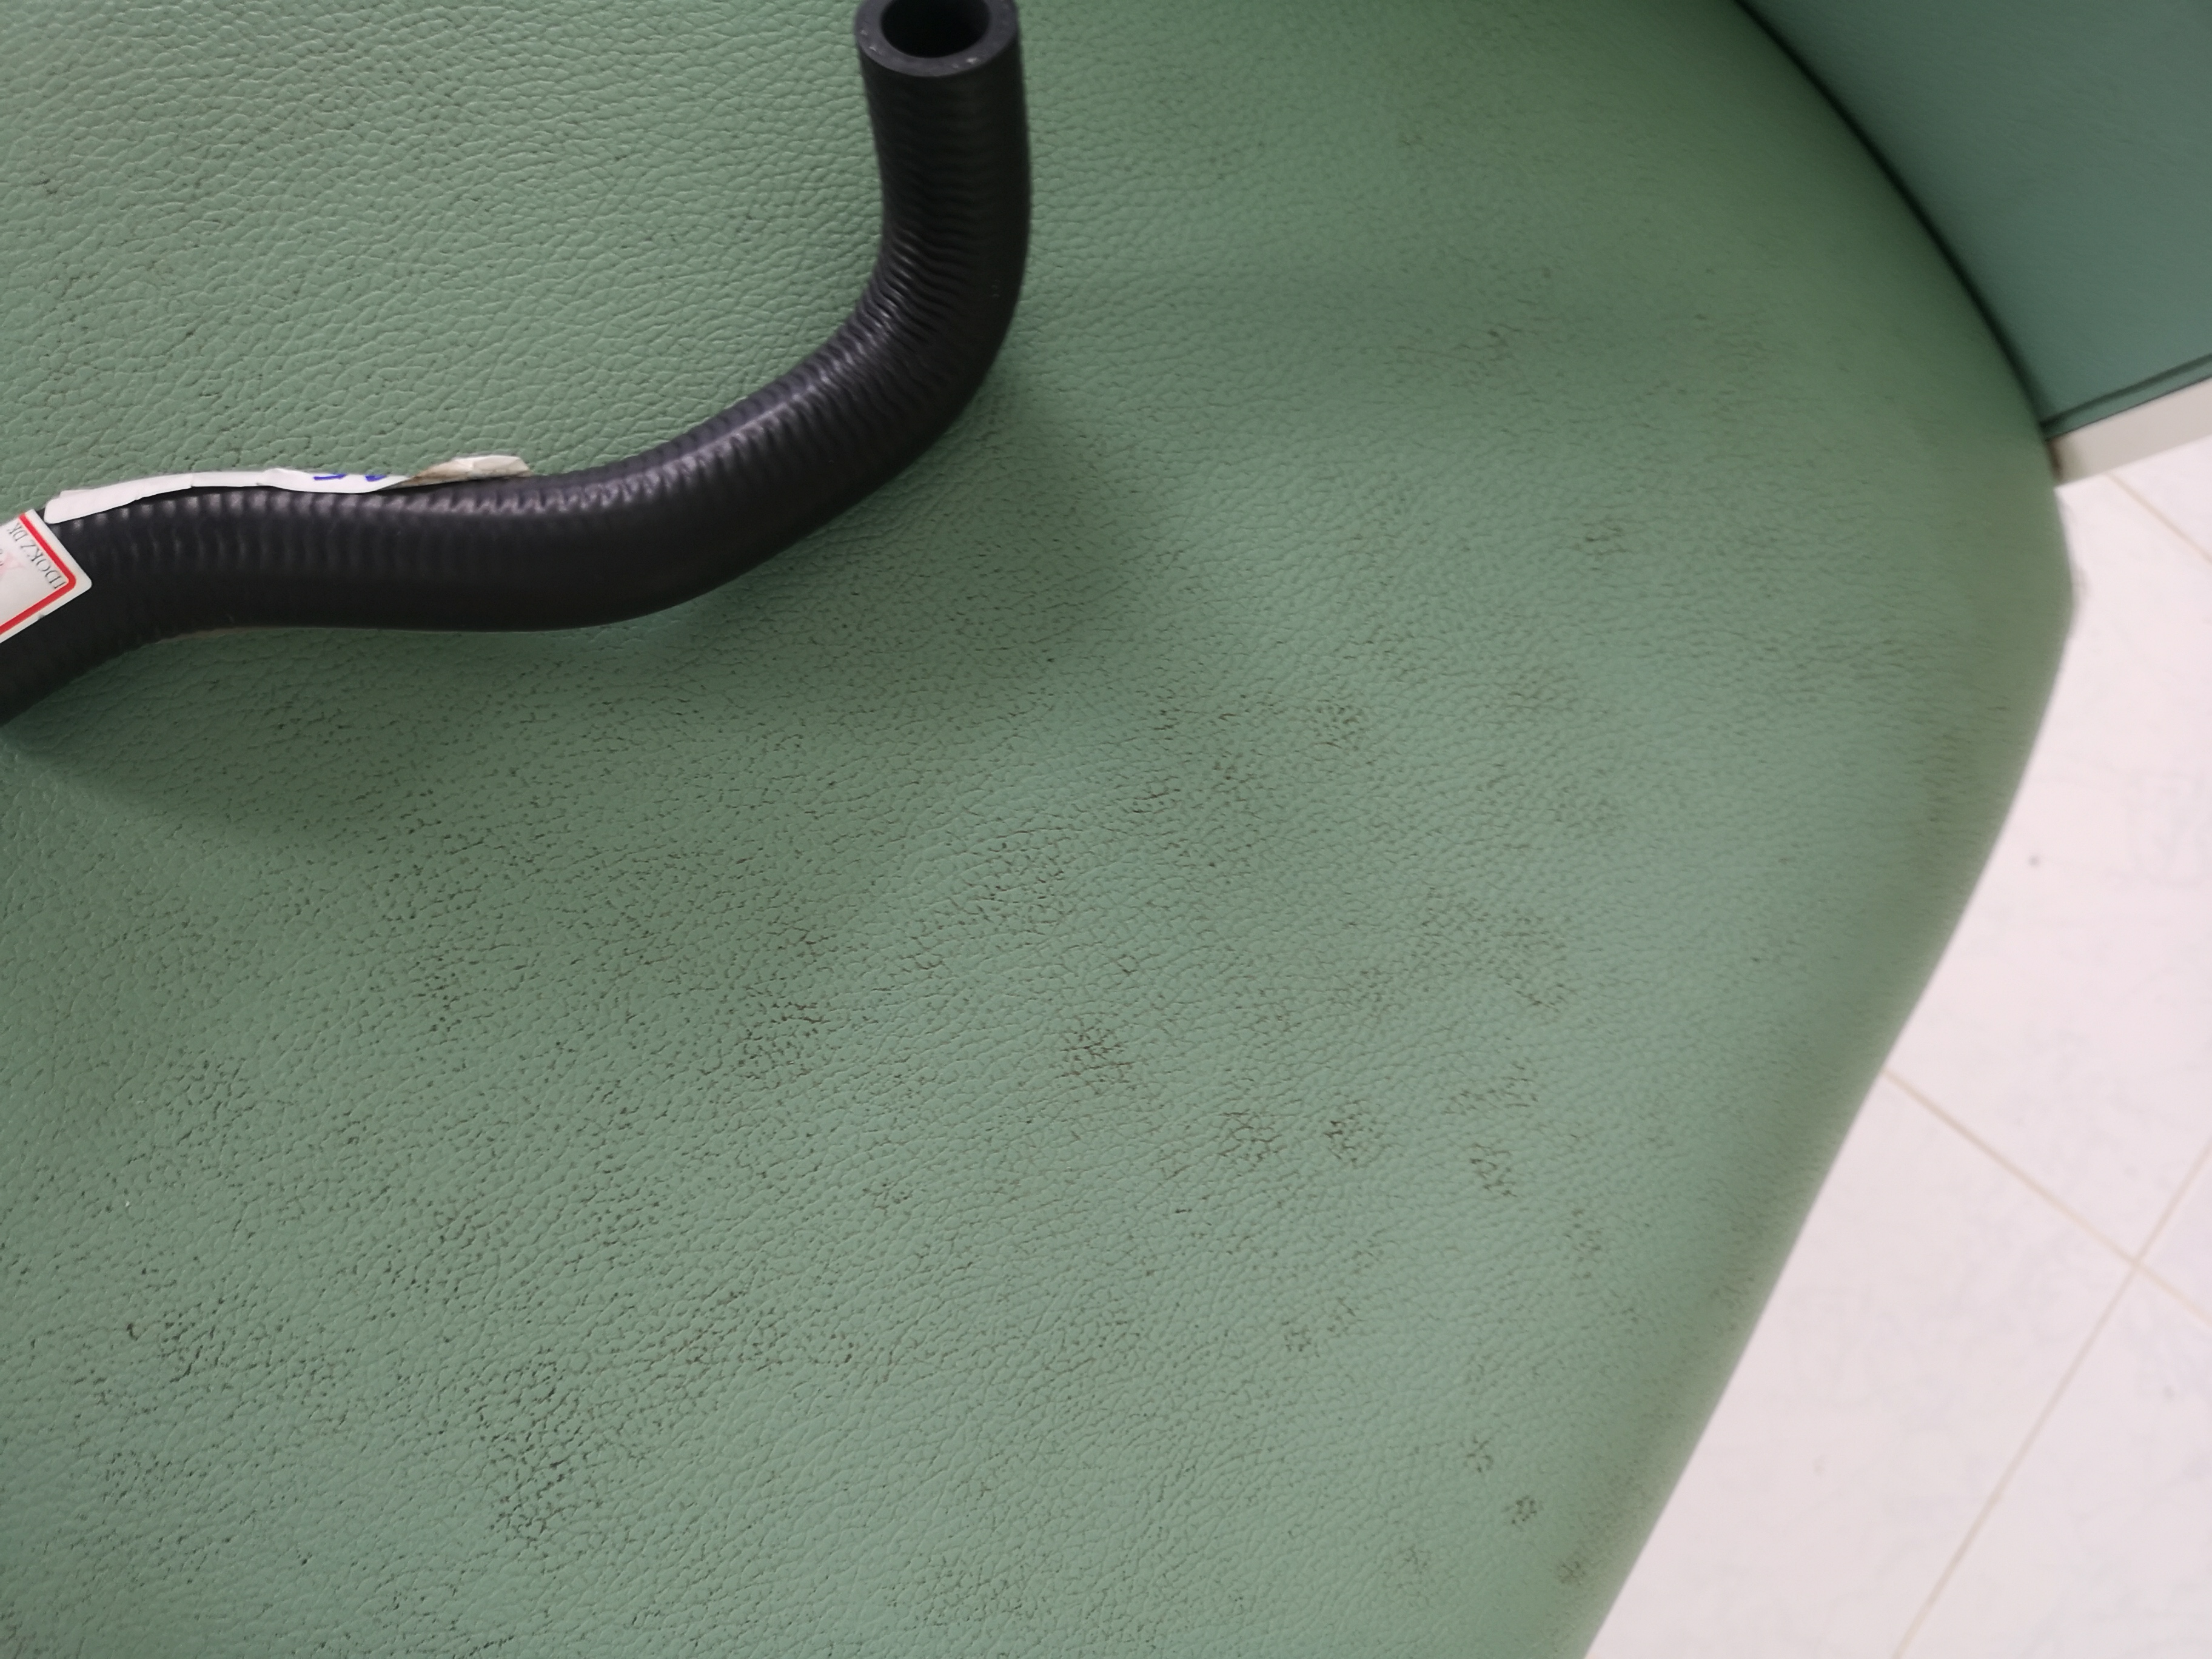ท่อยางน้ำมันเลี้ยงเทอร์โบ: (0, 14, 1191, 821)
